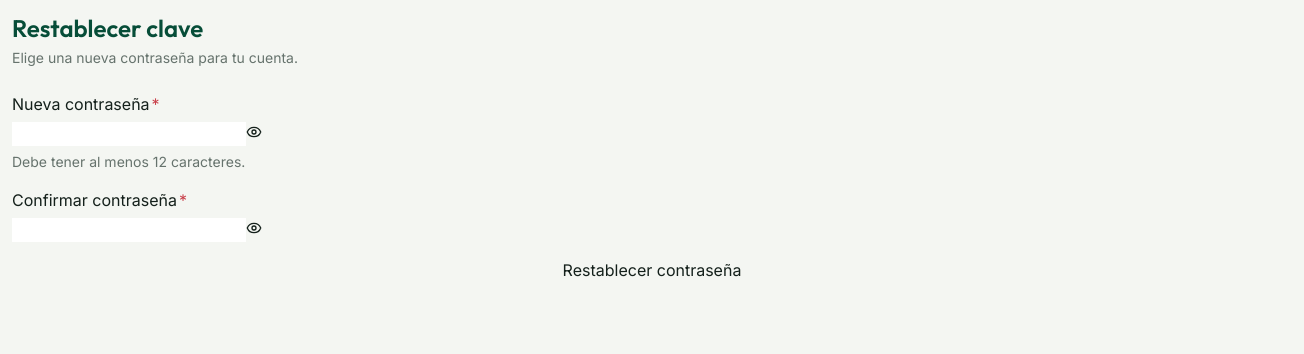
ResetPasswordPage › shows a safe message for a server-rejected weak password
Expected: the heading "Restablecer clave" is shown, [12,13,203,43]
Type "Whatever-Strong-99!" into the password field labelled "Nueva contraseña" at (129, 134), box [12,122,246,146]
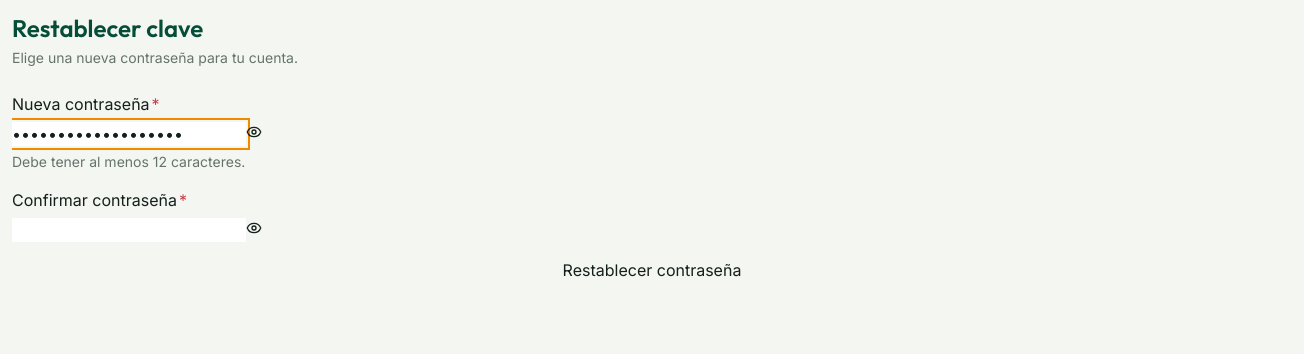
Type "Whatever-Strong-99!" into the password field labelled "Confirmar contraseña" at (129, 230), box [12,218,246,242]
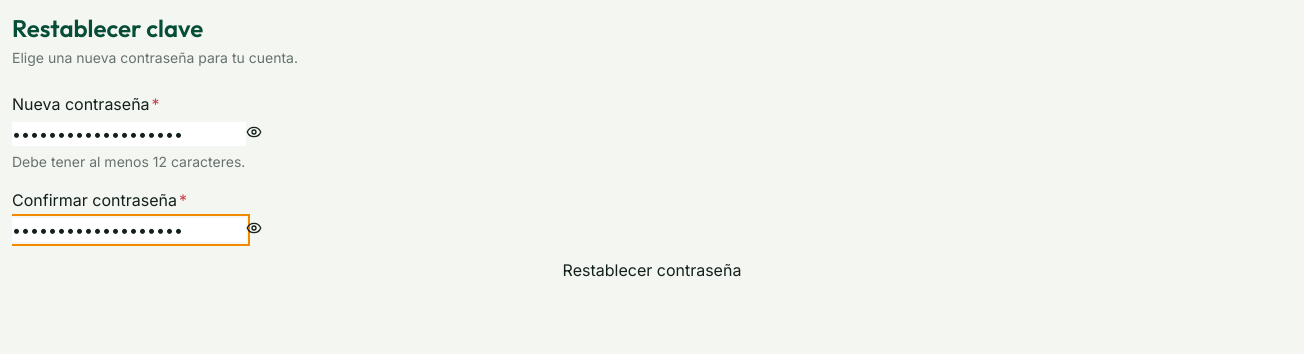
Click the button "Restablecer contraseña" at (652, 270), box [12,258,1292,282]
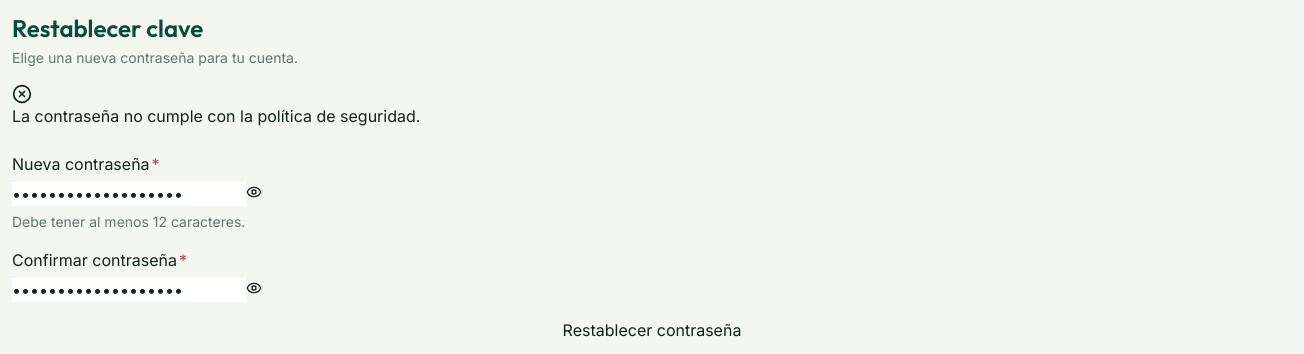
Now the message shows "no cumple con la política de seguridad", box [12,106,420,126]
